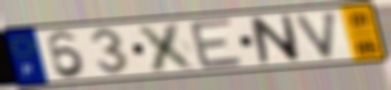3: (88, 26, 132, 77)
6: (46, 29, 87, 80)
E: (186, 16, 248, 71)
N: (248, 13, 304, 66)
V: (292, 9, 341, 61)
X: (134, 21, 202, 73)
